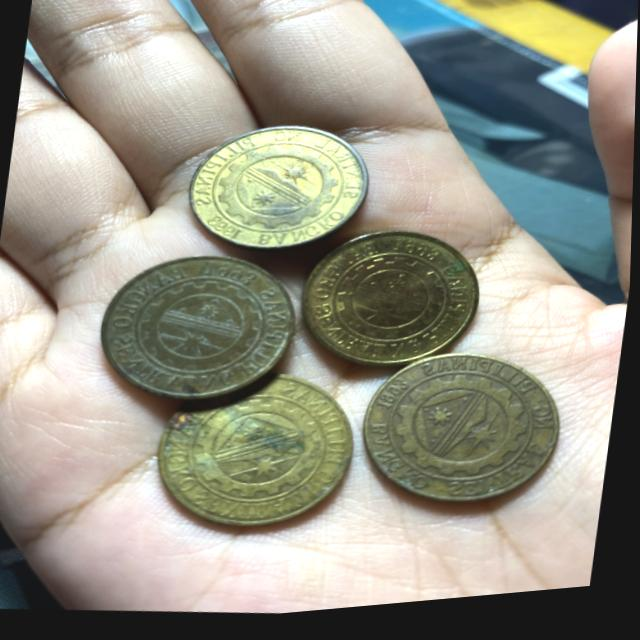25Cent_Old_Back: (357, 354, 572, 520), (154, 371, 362, 538), (188, 117, 372, 270), (314, 220, 485, 382), (107, 248, 273, 406)
